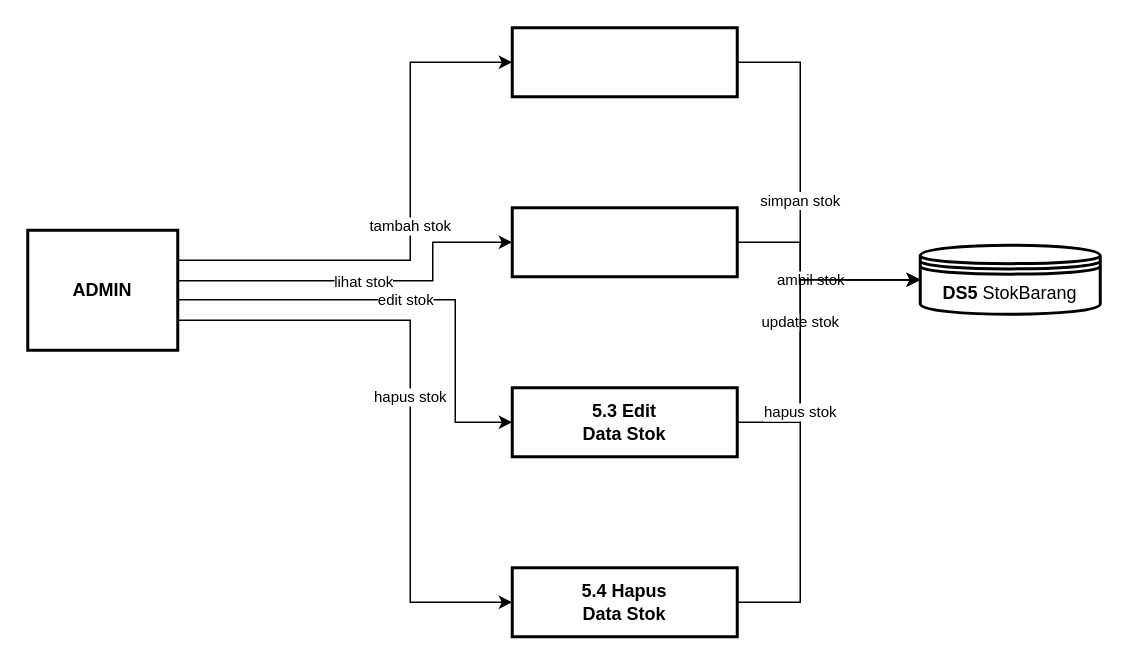
The diagram is 1127 pixels wide and 663 high, and some of its shapes have lost their labels. The centre of each missing label's shape, as x and y in pixels:
"5.1 Tambah Data Stok" goes at point 624,62.
"5.2 Lihat Data Stok" goes at point 624,242.
